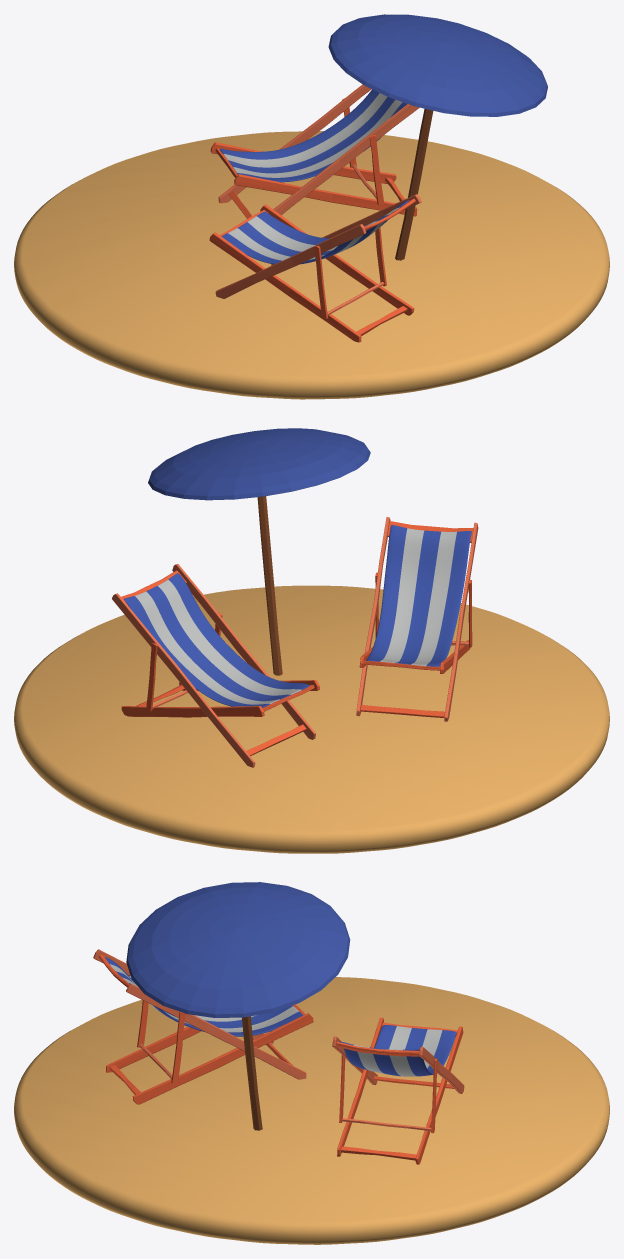
The model's file is uploads_files_3046397_Beach+Scene.fbx.
3 renders of one model, top to bottom at view 1: azimuth 30°, elevation 25°; view 2: azimuth 150°, elevation 25°; view 3: azimuth 270°, elevation 25°, orthographic.
Parts seen in each view (by area): view 1: Cylinder.003, Sphere, Plane, Plane.001, Cube.002, Cube.012, Cube.016, Cube.004, Cylinder.001, Cube.001, Cube.017, Cube.005 (+1 smaller); view 2: Cylinder.003, Sphere, Plane.001, Plane, Cube.001, Cylinder.001, Cube.002, Cube.005, Cube.012, Cube.011, Cube.010; view 3: Cylinder.003, Sphere, Plane, Cube.017, Plane.001, Cube.011, Cylinder.001, Cube.016, Cube.005, Cube.004, Cube.001, Cube.003 (+1 smaller).
Boxes of the visible parts, x1,y1,x2,y2 form: Cylinder.003: [14, 131, 609, 399]; Sphere: [328, 14, 547, 116]; Plane: [219, 89, 407, 182]; Plane.001: [221, 200, 409, 264]; Cube.002: [273, 104, 419, 215]; Cube.012: [215, 224, 366, 298]; Cube.016: [209, 232, 361, 342]; Cube.004: [234, 174, 417, 216]; Cylinder.001: [395, 109, 433, 260]; Cube.001: [218, 84, 371, 203]; Cube.017: [260, 204, 414, 315]; Cube.005: [210, 142, 396, 183]; Cylinder.003: [14, 585, 609, 853]; Sphere: [148, 428, 370, 500]; Plane.001: [366, 525, 471, 666]; Plane: [124, 573, 309, 707]; Cube.001: [112, 593, 255, 767]; Cylinder.001: [257, 496, 282, 675]; Cube.002: [172, 564, 315, 739]; Cube.005: [121, 706, 264, 717]; Cube.012: [444, 522, 478, 721]; Cube.011: [356, 517, 390, 716]; Cube.010: [360, 705, 444, 717]; Cylinder.003: [14, 977, 609, 1244]; Sphere: [126, 882, 350, 1017]; Plane: [339, 1025, 456, 1076]; Cube.017: [132, 1013, 313, 1104]; Plane.001: [104, 957, 302, 1036]; Cube.011: [126, 984, 306, 1079]; Cylinder.001: [242, 1016, 262, 1130]; Cube.016: [106, 1027, 200, 1072]; Cube.005: [415, 1026, 463, 1164]; Cube.004: [337, 1017, 383, 1156]; Cube.001: [418, 1047, 464, 1093]; Cube.003: [336, 1041, 419, 1056].
Size of the model in its own units: 508 by 230 by 508.
